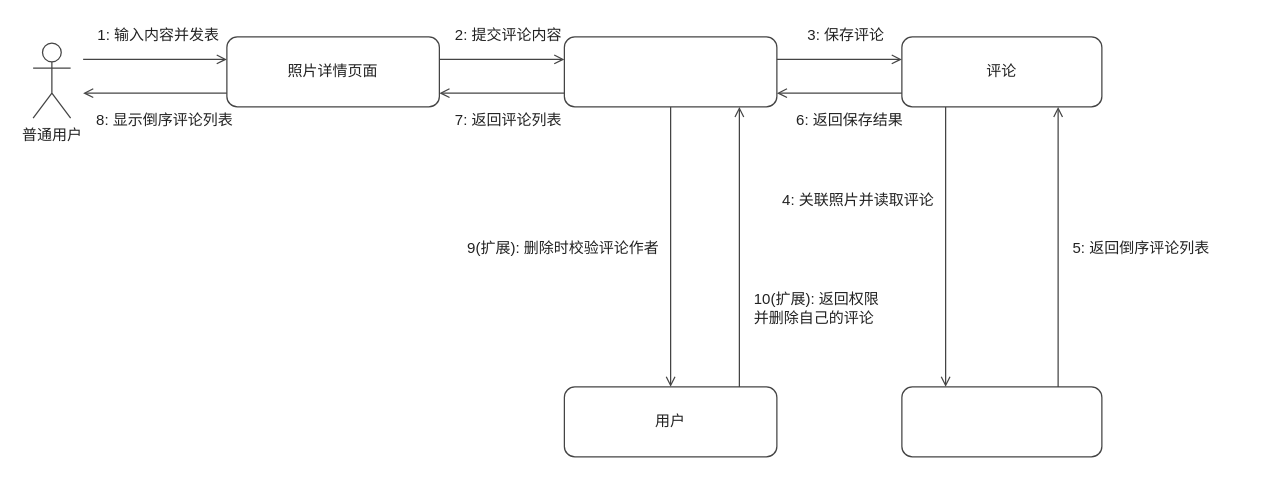
Some shapes in this 1279 by 479 pixel diagram are drawn without their labels. Here are the shapes that lost their labels. From the top down, the box of each, then its label:
(563, 36, 777, 107): 评论控制器
(901, 386, 1102, 457): 照片
